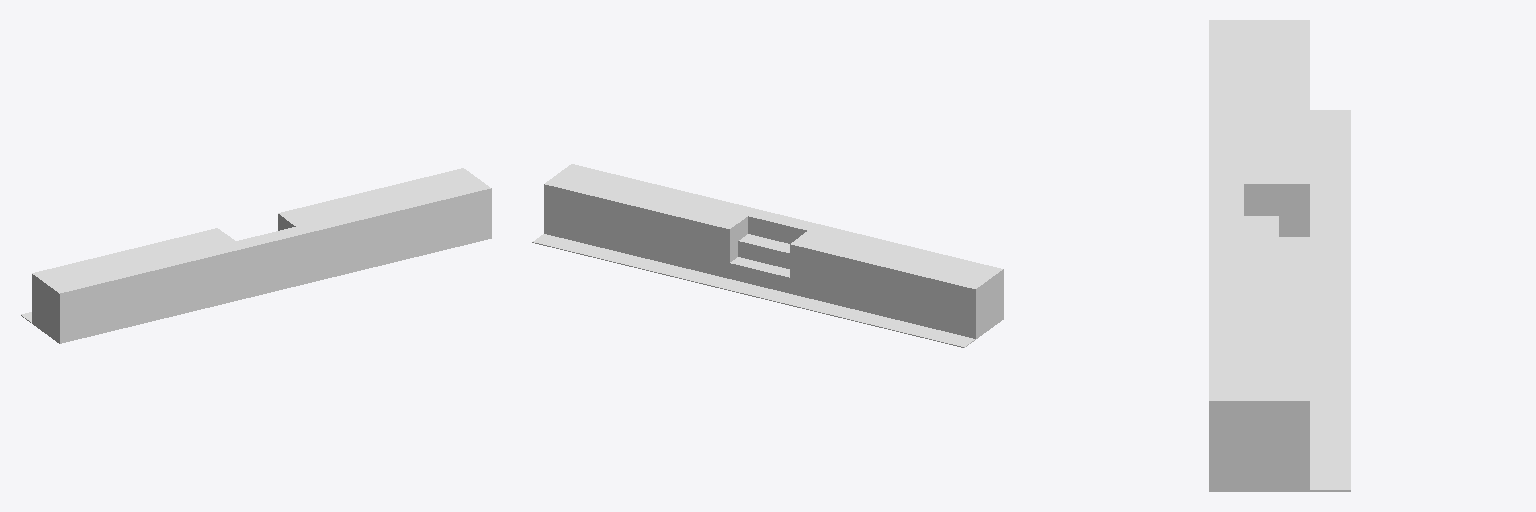
robot.urdf — coe-stairs_fixed:
<?xml version="1.0"?>
<robot name="coe-stairs_fixed"
       xmlns:xi="http://www.w3.org/2001/XInclude"
       >
  <gazebo>
    <static>false</static>
  </gazebo>
  <link name="nil_link">
    <visual>
      <origin xyz="0 0 0" rpy="0 -0 0"/>
      <geometry>
        <mesh filename="model://coe-stairs/meshes/nil_link_mesh.dae" scale="1 1 1" />
      </geometry>
    </visual>
    <collision>
      <origin xyz="0 0 0" rpy="0 -0 0"/>
      <geometry>
        <mesh filename="model://coe-stairs/meshes/nil_link_mesh.dae" scale="1 1 1" />
      </geometry>
    </collision>
    <inertial>
      <mass value="0.001" />
      <origin xyz="0 0 0" rpy="0 -0 0"/>
      <inertia ixx="1e-03" ixy="0" ixz="0" iyy="1e-03" iyz="0" izz="1e-03"/>
    </inertial>
  </link>
  <gazebo reference="nil_link">
    <mu1>0.9</mu1>
    <mu2>0.9</mu2>
  </gazebo>
  <!-- Used for fixing robot to Gazebo 'base_link' -->
  <link name="world"/>
  <joint name="fixed" type="fixed">
    <parent link="world"/>
    <child link="nil_link"/>
  </joint>
</robot>

--- Render facts (derived) ---
The picture shows the robot from 3 angles, left to right: view 1: azimuth 30°, elevation 25°; view 2: azimuth 150°, elevation 25°; view 3: azimuth 270°, elevation 25°; orthographic projection.
Model coe-stairs_fixed with 2 links and 1 joints (1 fixed), rooted at world, posed all joints at 0.
Visible links, largest first — view 1: nil_link; view 2: nil_link; view 3: nil_link.
Boxes of the visible links, x1=… form: nil_link: x1=21, y1=168, x2=491, y2=343; nil_link: x1=532, y1=164, x2=1003, y2=347; nil_link: x1=1209, y1=20, x2=1350, y2=491.
Size in the robot's own frame: 5.38 by 0.845 by 0.6 metres.
1 mesh visuals loaded from 1 distinct referenced files (1 Collada DAE).